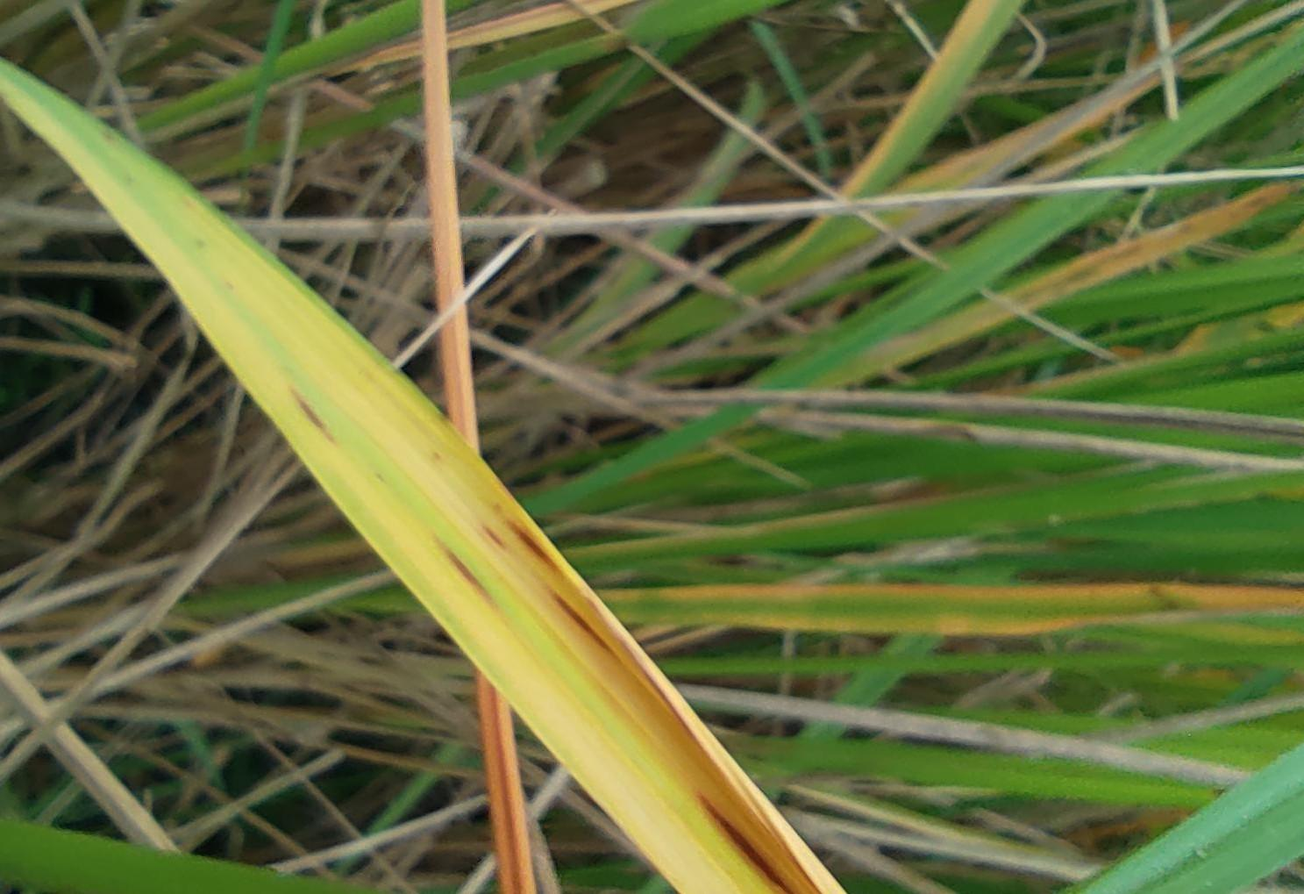LEAF: (0, 61, 841, 893)
NBS: (697, 796, 795, 893), (556, 599, 605, 647), (444, 549, 488, 600), (291, 389, 333, 442), (509, 519, 550, 561), (481, 526, 503, 545)
